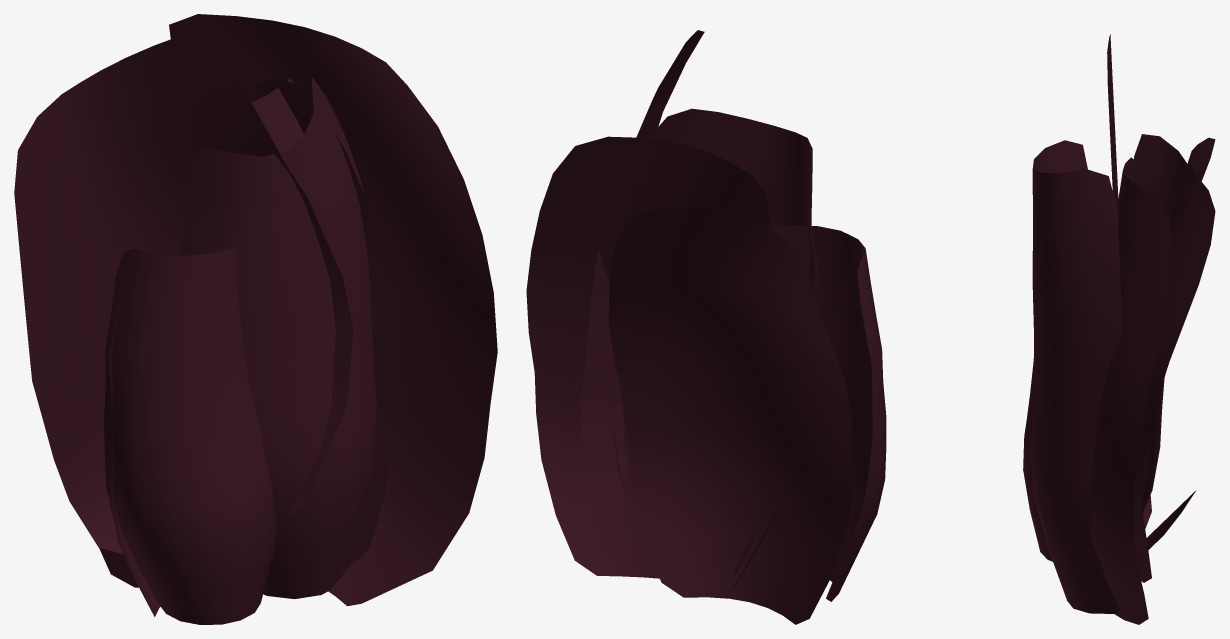
Rendered from SM_Coral_Whip_01.dae.
3 views of the same model, side by side, from view 1: azimuth 30°, elevation 25°; view 2: azimuth 150°, elevation 25°; view 3: azimuth 270°, elevation 25° (orthographic). The views are drawn at different scales.
Visible parts, largest first — view 1: SM_Coral_Whip_01_LOD0; view 2: SM_Coral_Whip_01_LOD0; view 3: SM_Coral_Whip_01_LOD0.
Part boxes in pixels (left/top/right/bottom): SM_Coral_Whip_01_LOD0: left=14, top=14, right=497, bottom=624; SM_Coral_Whip_01_LOD0: left=526, top=30, right=886, bottom=624; SM_Coral_Whip_01_LOD0: left=1023, top=34, right=1215, bottom=624.
Size of what is drawn, in the model's own units: 88.92 by 121 by 49.39.
